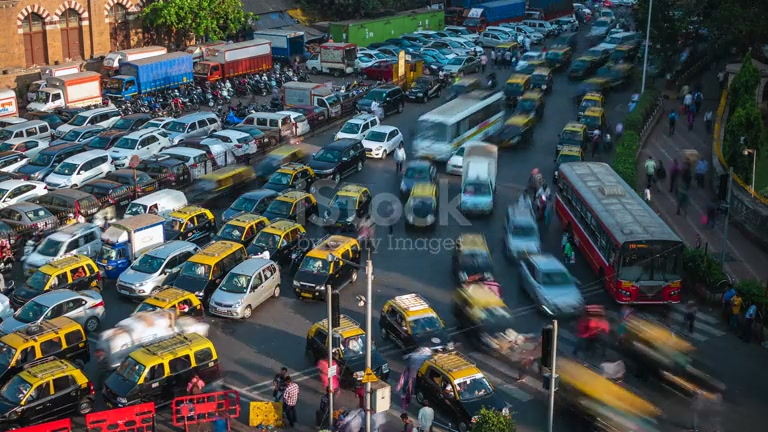bus: (553, 160, 686, 307), (410, 87, 506, 165), (458, 141, 499, 218)
car: (99, 331, 222, 411), (0, 356, 95, 427), (91, 305, 182, 374), (0, 316, 90, 381), (413, 348, 494, 416), (114, 238, 200, 300), (204, 256, 282, 321), (2, 287, 105, 336), (21, 222, 104, 281), (517, 251, 586, 320), (292, 233, 361, 300), (379, 292, 450, 354), (243, 219, 312, 266), (451, 279, 512, 331), (502, 194, 543, 262), (305, 138, 367, 179), (451, 231, 497, 285), (403, 180, 439, 229), (360, 124, 404, 159)
pedestrian: (282, 379, 300, 427)
